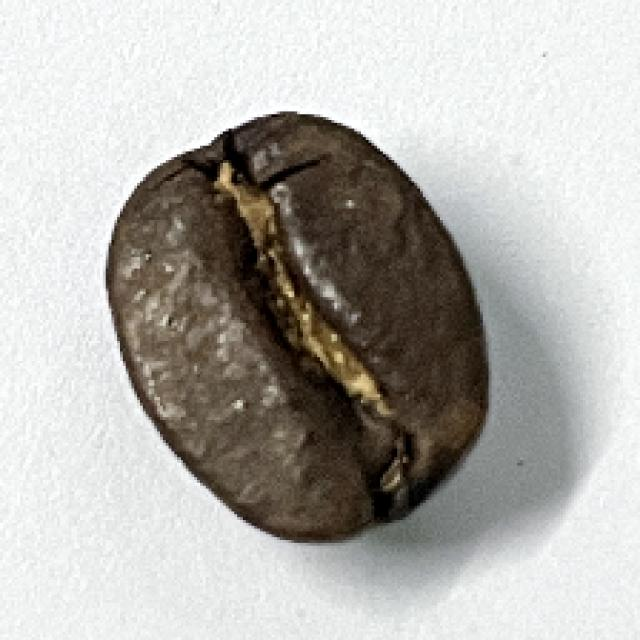bean: (99, 106, 494, 544)
